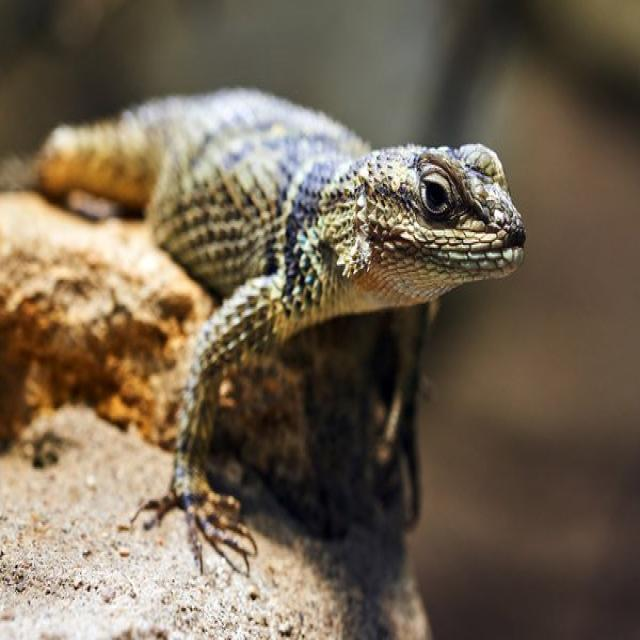Lizard: (38, 76, 528, 547)
